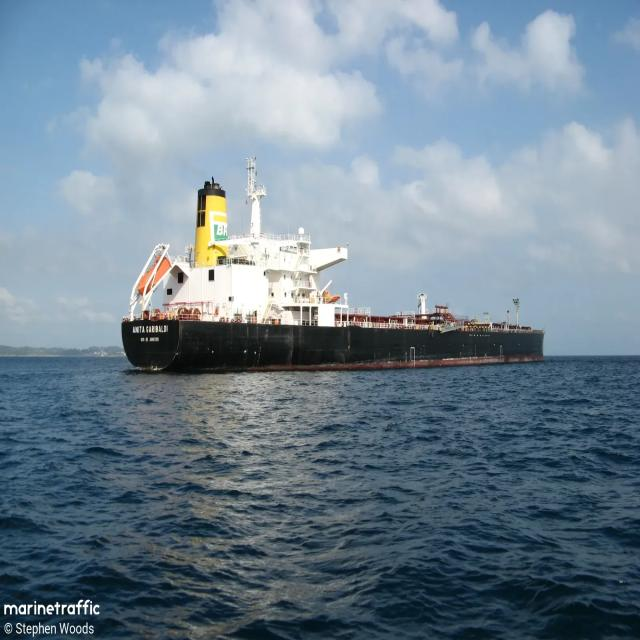Tanker: (121, 158, 544, 370)
